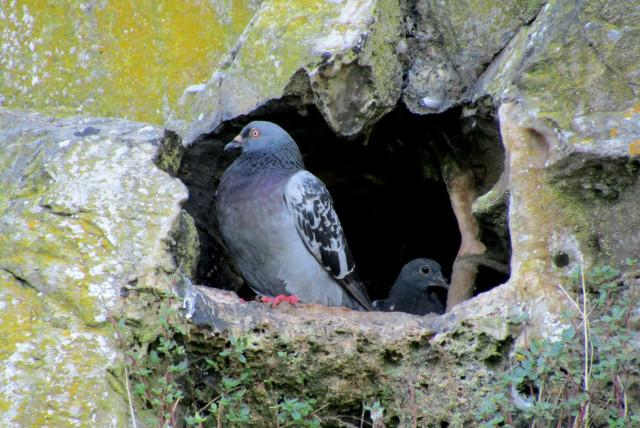Flying Rat: (210, 122, 349, 314), (373, 247, 448, 319)
